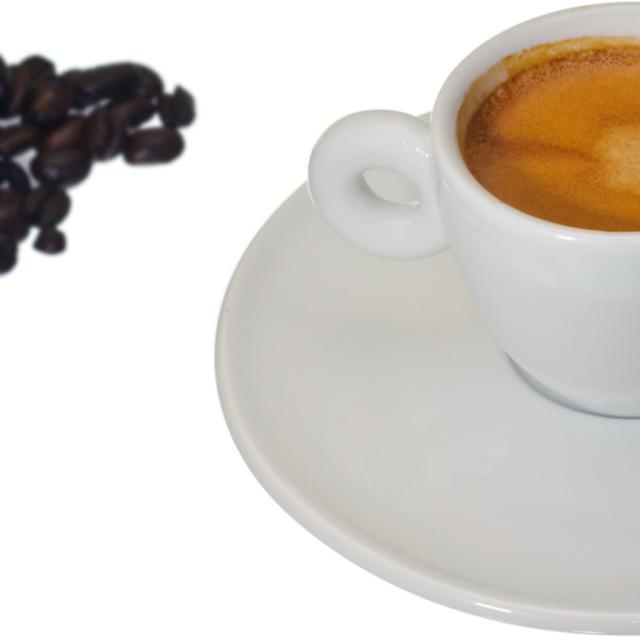Coffee: (459, 39, 639, 228)
Tea: (457, 32, 639, 228)
